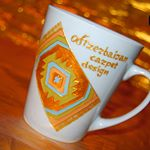cups: (22, 3, 150, 144)
